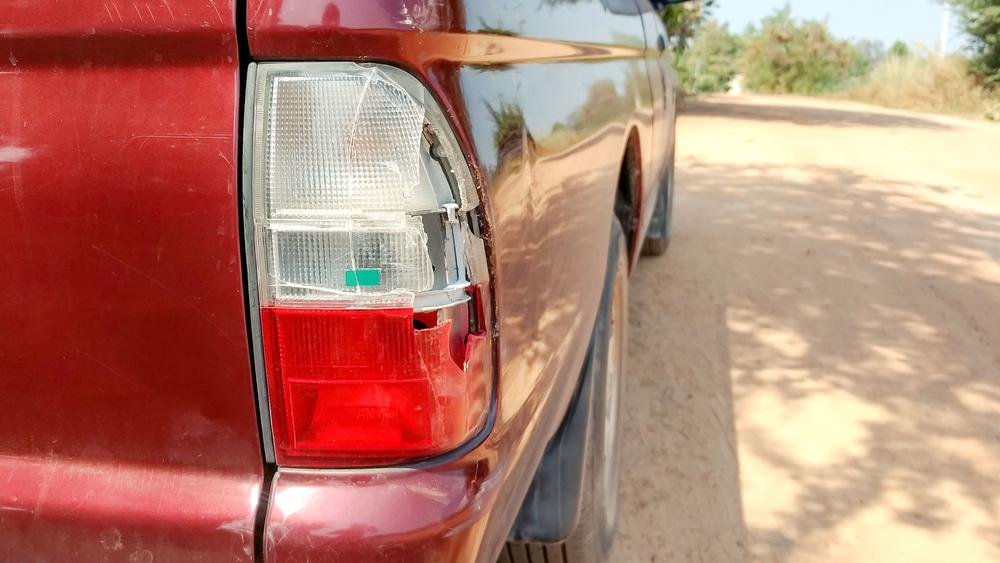lamp broken: (251, 62, 492, 469)
